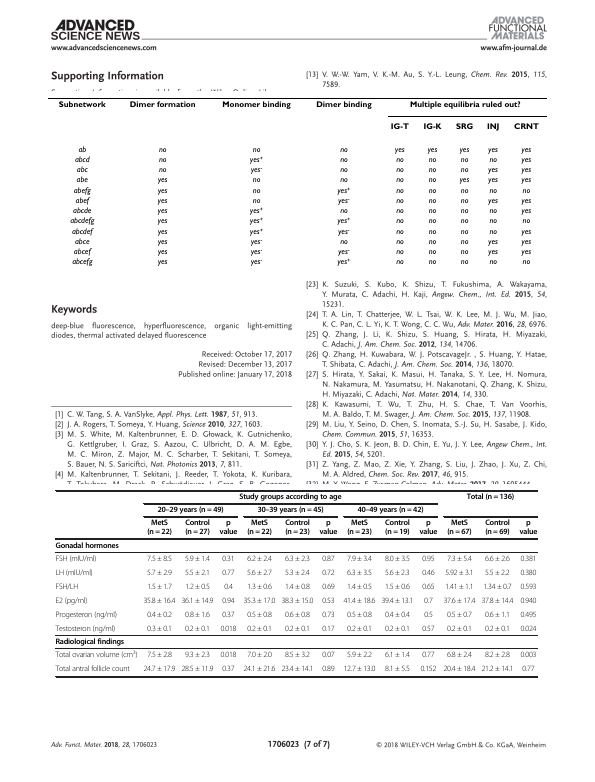borderless: (54, 489, 537, 676), (46, 96, 548, 275)
cell: (408, 101, 521, 110), (238, 493, 342, 502), (55, 649, 138, 660), (256, 506, 325, 516), (55, 665, 131, 674), (156, 506, 224, 516), (356, 506, 424, 516), (55, 541, 120, 551), (55, 610, 118, 620), (55, 638, 125, 647), (221, 101, 291, 110), (128, 101, 196, 110), (55, 624, 116, 634), (146, 519, 173, 538), (184, 519, 211, 538), (246, 519, 273, 538), (284, 519, 311, 538), (346, 519, 373, 538), (384, 519, 411, 538), (446, 519, 473, 538), (484, 519, 511, 538), (315, 101, 372, 110), (466, 493, 515, 502), (57, 101, 106, 110), (55, 554, 97, 564), (55, 568, 94, 578), (318, 519, 338, 538), (418, 519, 438, 538), (518, 519, 538, 538), (219, 519, 238, 538), (142, 596, 176, 606), (180, 596, 214, 606), (242, 596, 276, 606), (280, 596, 314, 606), (342, 596, 376, 606), (380, 596, 414, 606), (442, 596, 476, 606), (480, 596, 514, 606), (55, 596, 88, 606), (444, 582, 475, 592), (482, 582, 513, 592), (142, 665, 176, 674), (180, 665, 214, 674), (242, 665, 276, 674), (280, 665, 314, 674), (342, 665, 376, 674), (442, 665, 476, 674), (480, 665, 514, 674), (444, 568, 474, 578), (146, 554, 173, 564), (184, 554, 211, 564), (246, 554, 273, 564), (284, 554, 311, 564), (346, 554, 373, 564), (384, 554, 411, 564), (446, 554, 473, 564), (484, 554, 511, 564), (146, 568, 173, 578), (184, 568, 211, 578), (246, 568, 273, 578), (284, 568, 311, 578), (346, 568, 373, 578), (384, 568, 411, 578), (484, 568, 511, 578), (146, 582, 173, 592), (184, 582, 211, 592), (246, 582, 273, 592), (284, 582, 311, 592), (346, 582, 373, 592), (384, 582, 411, 592), (146, 610, 173, 620), (184, 610, 211, 620), (246, 610, 273, 620), (284, 610, 311, 620), (346, 610, 373, 620), (384, 610, 411, 620), (446, 610, 473, 620), (484, 610, 511, 620), (146, 624, 173, 634), (184, 624, 211, 634), (246, 624, 273, 634), (284, 624, 311, 634), (346, 624, 373, 634), (384, 624, 411, 634), (446, 624, 473, 634), (484, 624, 511, 634), (146, 651, 173, 660), (184, 651, 211, 660), (246, 651, 273, 660), (284, 651, 311, 660), (346, 651, 373, 660), (384, 651, 411, 660), (446, 651, 473, 660), (484, 651, 511, 660), (384, 665, 411, 674), (55, 582, 79, 592), (513, 123, 539, 132), (69, 217, 95, 226), (70, 227, 93, 237), (71, 258, 93, 267), (72, 186, 91, 196), (519, 554, 537, 564), (519, 568, 537, 578), (519, 582, 537, 592), (519, 596, 537, 606), (519, 610, 537, 620), (219, 624, 237, 634), (519, 624, 537, 634), (389, 123, 409, 132), (422, 123, 442, 132), (454, 123, 474, 132), (72, 207, 92, 216), (72, 248, 91, 257), (73, 155, 90, 165), (73, 237, 90, 247), (219, 651, 237, 660), (519, 651, 537, 660), (419, 665, 437, 674), (74, 196, 90, 206), (221, 554, 236, 564), (321, 554, 336, 564), (321, 582, 336, 592), (421, 582, 436, 592), (321, 596, 336, 606), (221, 610, 236, 620), (321, 610, 336, 620), (321, 624, 336, 634), (249, 155, 264, 165), (336, 186, 351, 196), (249, 227, 264, 237), (421, 554, 435, 564), (221, 568, 235, 578), (321, 568, 335, 578), (421, 568, 435, 578), (221, 596, 235, 606), (421, 624, 435, 634), (249, 237, 263, 247), (321, 651, 336, 660), (321, 665, 336, 674), (485, 123, 500, 132), (249, 207, 264, 216), (249, 217, 264, 226), (336, 217, 351, 226), (336, 258, 351, 267), (337, 196, 350, 206), (337, 227, 350, 237), (421, 651, 435, 660), (221, 665, 235, 674), (521, 665, 535, 674), (249, 166, 263, 175), (249, 248, 263, 257), (249, 258, 263, 267), (426, 145, 438, 155), (458, 145, 470, 155), (520, 145, 532, 155), (520, 155, 532, 165), (156, 186, 168, 196), (156, 196, 168, 206), (520, 196, 532, 206), (156, 227, 168, 237), (520, 227, 532, 237), (156, 237, 168, 247), (520, 237, 532, 247), (75, 166, 88, 175), (75, 176, 88, 185), (337, 248, 350, 257), (223, 582, 234, 592), (423, 596, 434, 606), (423, 610, 434, 620), (394, 145, 405, 155), (487, 145, 498, 155), (487, 196, 498, 206), (487, 237, 498, 247), (520, 166, 532, 175), (156, 176, 168, 185), (458, 176, 470, 185), (520, 176, 532, 185), (156, 207, 168, 216), (520, 207, 532, 216), (156, 217, 168, 226), (156, 248, 168, 257), (520, 248, 532, 257), (156, 258, 168, 267), (77, 145, 87, 155), (157, 145, 167, 155), (251, 145, 261, 155), (157, 155, 167, 165), (427, 155, 437, 165), (459, 155, 469, 165), (251, 186, 261, 196), (427, 186, 437, 196), (459, 186, 469, 196), (521, 186, 531, 196), (251, 196, 261, 206), (427, 196, 437, 206), (459, 196, 469, 206), (427, 227, 437, 237), (459, 227, 469, 237), (427, 237, 437, 247), (459, 237, 469, 247), (487, 166, 498, 175), (487, 176, 498, 185), (487, 248, 498, 257), (339, 145, 348, 155), (339, 155, 348, 165), (395, 155, 404, 165), (488, 155, 497, 165), (157, 166, 167, 175), (427, 166, 437, 175), (459, 166, 469, 175), (251, 176, 261, 185), (427, 176, 437, 185), (395, 186, 404, 196), (488, 186, 497, 196), (395, 196, 404, 206), (427, 207, 437, 216), (459, 207, 469, 216), (427, 217, 437, 226), (459, 217, 469, 226), (521, 217, 531, 226), (395, 227, 404, 237), (488, 227, 497, 237), (339, 237, 348, 247), (395, 237, 404, 247), (427, 248, 437, 257), (459, 248, 469, 257), (427, 258, 437, 267), (459, 258, 469, 267), (521, 258, 531, 267), (339, 166, 348, 175), (395, 166, 404, 175), (339, 176, 348, 185), (395, 176, 404, 185), (339, 207, 348, 216), (395, 207, 404, 216), (488, 207, 497, 216), (395, 217, 404, 226), (488, 217, 497, 226), (395, 248, 404, 257), (395, 258, 404, 267), (488, 258, 497, 267)
